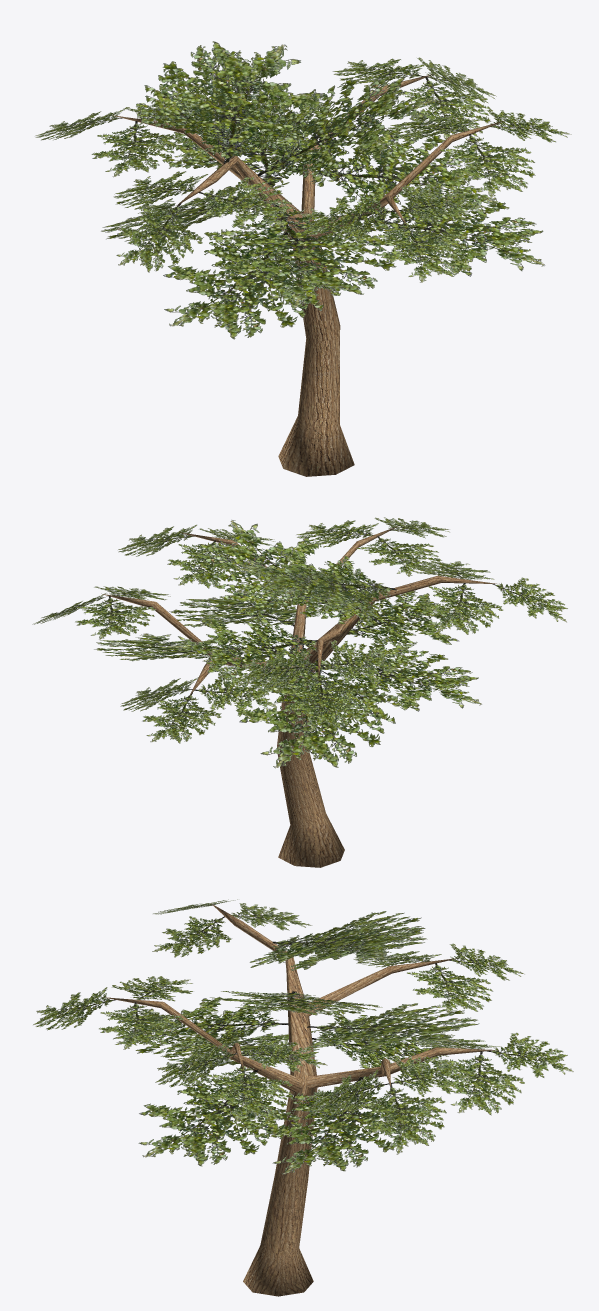
The model's file is tree_alive.fbx.
The picture shows the model from 3 angles, top to bottom: view 1: azimuth 30°, elevation 25°; view 2: azimuth 150°, elevation 25°; view 3: azimuth 270°, elevation 25°; orthographic projection. The views are drawn at different scales.
Visible parts, largest first — view 1: tree, large_branch_front_side.007, large_branch_front_side.003, large_branch_front_side.001, large_branch_front_side, large_branch_front_side.005, large_branch_front_side.006, large_branch_back_side.007, branch_front_side.009, large_branch_front_side.004, branch_front_side.016, branch_front_side.012 (+13 smaller); view 2: tree, large_branch_front_side.002, large_branch_front_side.001, large_branch_front_side.004, large_branch_front_side, large_branch_front_side.007, large_branch_front_side.003, large_branch_back_side.007, large_branch_front_side.006, branch_front_side.011, branch_front_side.003, branch_front_side.006 (+17 smaller); view 3: tree, large_branch_front_side.006, large_branch_front_side.005, large_branch_front_side.004, large_branch_front_side.003, large_branch_front_side.007, branch_front_side.002, branch_back_side.004, branch_front_side.015, large_branch_front_side.002, branch_front_side.007, large_branch_front_side.001 (+16 smaller).
Part boxes in pixels (left/top/right/bottom): tree: left=112, top=74, right=505, bottom=476; large_branch_front_side.007: left=136, top=41, right=324, bottom=163; large_branch_front_side.003: left=209, top=203, right=397, bottom=307; large_branch_front_side.001: left=257, top=75, right=436, bottom=186; large_branch_front_side: left=163, top=230, right=340, bottom=339; large_branch_front_side.005: left=317, top=122, right=498, bottom=222; large_branch_front_side.006: left=362, top=182, right=545, bottom=276; large_branch_back_side.007: left=137, top=48, right=323, bottom=158; branch_front_side.009: left=116, top=202, right=203, bottom=272; large_branch_front_side.004: left=162, top=83, right=345, bottom=187; branch_front_side.016: left=440, top=133, right=535, bottom=197; branch_front_side.012: left=373, top=219, right=467, bottom=282; tree: left=101, top=525, right=499, bottom=867; large_branch_front_side.002: left=238, top=653, right=402, bottom=768; large_branch_front_side.001: left=197, top=519, right=359, bottom=617; large_branch_front_side.004: left=171, top=613, right=318, bottom=688; large_branch_front_side: left=324, top=639, right=482, bottom=711; large_branch_front_side.007: left=238, top=553, right=396, bottom=617; large_branch_front_side.003: left=325, top=589, right=473, bottom=653; large_branch_back_side.007: left=237, top=550, right=396, bottom=627; large_branch_front_side.006: left=169, top=589, right=332, bottom=627; branch_front_side.011: left=421, top=583, right=503, bottom=634; branch_front_side.003: left=142, top=692, right=221, bottom=743; branch_front_side.006: left=285, top=672, right=365, bottom=731; tree: left=103, top=903, right=498, bottom=1296; large_branch_front_side.006: left=138, top=1070, right=302, bottom=1166; large_branch_front_side.005: left=261, top=1077, right=425, bottom=1174; large_branch_front_side.004: left=306, top=1003, right=479, bottom=1052; large_branch_front_side.003: left=113, top=996, right=288, bottom=1058; large_branch_front_side.007: left=250, top=911, right=425, bottom=970; branch_front_side.002: left=360, top=1083, right=446, bottom=1154; branch_back_side.004: left=440, top=1051, right=524, bottom=1115; branch_front_side.015: left=207, top=1062, right=292, bottom=1121; large_branch_front_side.002: left=312, top=1009, right=467, bottom=1084; branch_front_side.007: left=407, top=963, right=493, bottom=1013; large_branch_front_side.001: left=210, top=991, right=382, bottom=1015.
Size of the model in its own units: 1177 by 845 by 1259.
